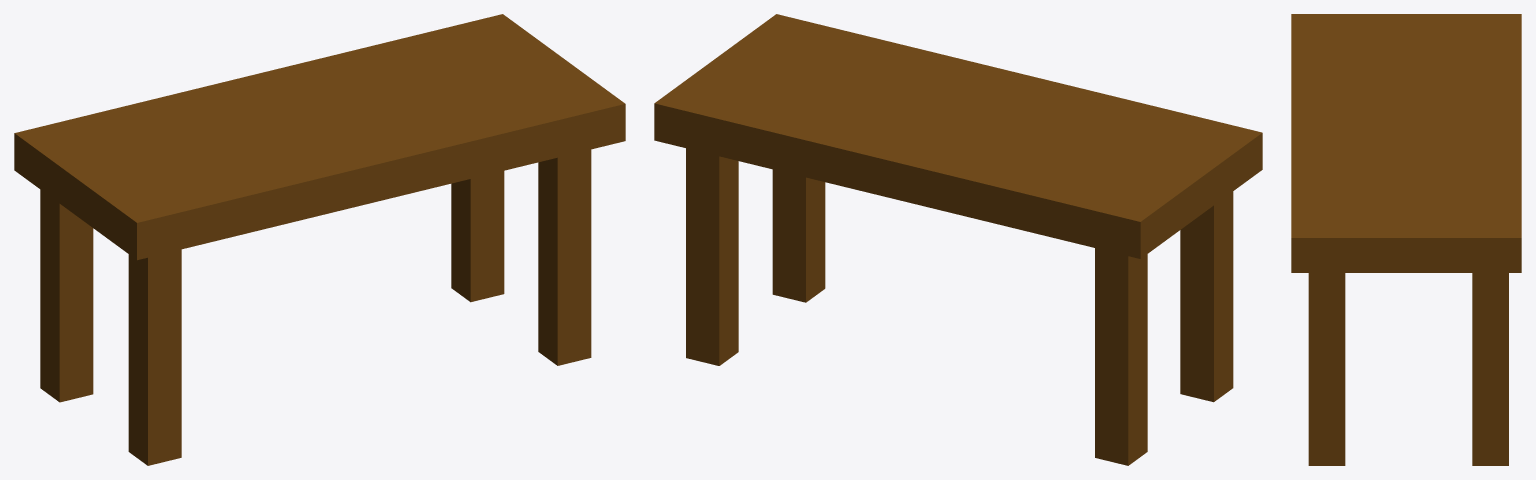
File: Bench.fbx
The picture shows the model from 3 angles, left to right: view 1: azimuth 30°, elevation 25°; view 2: azimuth 150°, elevation 25°; view 3: azimuth 270°, elevation 25°; orthographic projection. The views are drawn at different scales.
Visible parts, largest first — view 1: Cube, Cube.001, Cube.002, Cube.004, Cube.003; view 2: Cube, Cube.004, Cube.003, Cube.001, Cube.002; view 3: Cube, Cube.002, Cube.003.
Part boxes in pixels (x1=…): Cube: x1=14, y1=14, x2=625, y2=260; Cube.001: x1=128, y1=249, x2=181, y2=465; Cube.002: x1=538, y1=149, x2=591, y2=365; Cube.004: x1=40, y1=189, x2=93, y2=402; Cube.003: x1=451, y1=171, x2=504, y2=302; Cube: x1=654, y1=14, x2=1262, y2=258; Cube.004: x1=1095, y1=248, x2=1147, y2=465; Cube.003: x1=686, y1=148, x2=738, y2=365; Cube.001: x1=1180, y1=191, x2=1233, y2=402; Cube.002: x1=772, y1=169, x2=825, y2=302; Cube: x1=1291, y1=14, x2=1521, y2=272; Cube.002: x1=1308, y1=273, x2=1345, y2=465; Cube.003: x1=1472, y1=273, x2=1508, y2=465.
Bounding box in the file's own units: 725 × 361 × 315.
